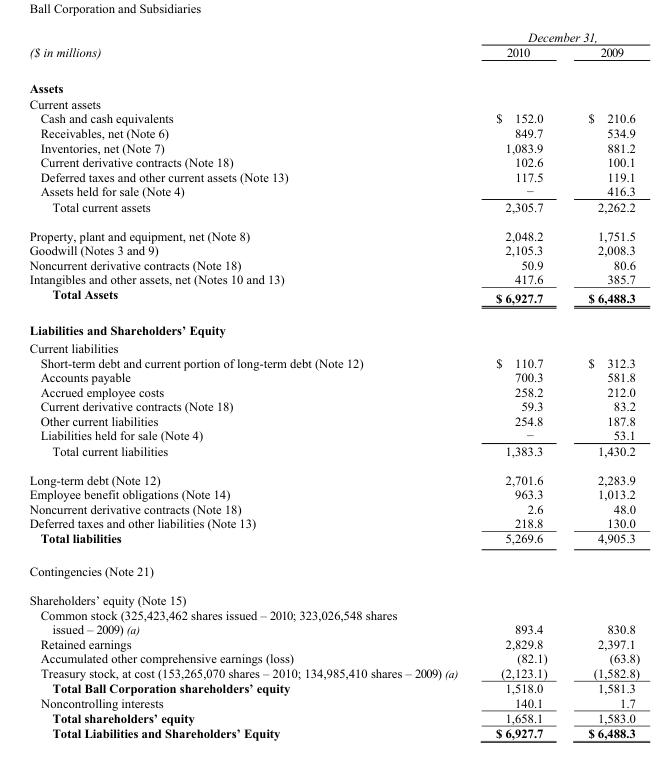table: (28, 29, 639, 739)
table column: (28, 29, 476, 739), (476, 29, 567, 739), (567, 29, 639, 739)
table column header: (28, 29, 639, 69)
table projected row header: (28, 554, 639, 585), (28, 69, 639, 95), (28, 313, 639, 338), (28, 585, 639, 607), (28, 338, 639, 355), (28, 95, 639, 110)
table row: (28, 554, 639, 585), (28, 607, 639, 636), (28, 286, 639, 313), (28, 69, 639, 95), (28, 44, 639, 69), (28, 313, 639, 338), (28, 530, 639, 554), (28, 198, 639, 220), (28, 220, 639, 242), (28, 442, 639, 464), (28, 464, 639, 486), (28, 585, 639, 607), (28, 338, 639, 355), (28, 709, 639, 725), (28, 29, 639, 44), (28, 95, 639, 110), (28, 110, 639, 125), (28, 125, 639, 140), (28, 154, 639, 169), (28, 183, 639, 198), (28, 242, 639, 257), (28, 271, 639, 286), (28, 369, 639, 384), (28, 398, 639, 413), (28, 427, 639, 442), (28, 486, 639, 501), (28, 515, 639, 530), (28, 650, 639, 665), (28, 665, 639, 680), (28, 680, 639, 695), (28, 140, 639, 154), (28, 169, 639, 183), (28, 257, 639, 271), (28, 355, 639, 369), (28, 384, 639, 398), (28, 413, 639, 427), (28, 501, 639, 515), (28, 636, 639, 650), (28, 695, 639, 709), (28, 725, 639, 739)
table spanning cell: (28, 29, 476, 69), (476, 29, 639, 44)
